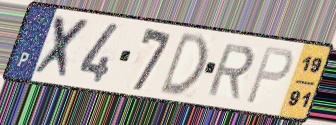4: (76, 21, 120, 86)
7: (131, 25, 173, 93)
D: (156, 30, 209, 96)
P: (243, 45, 296, 107)
R: (204, 43, 258, 102)
X: (30, 13, 95, 82)
